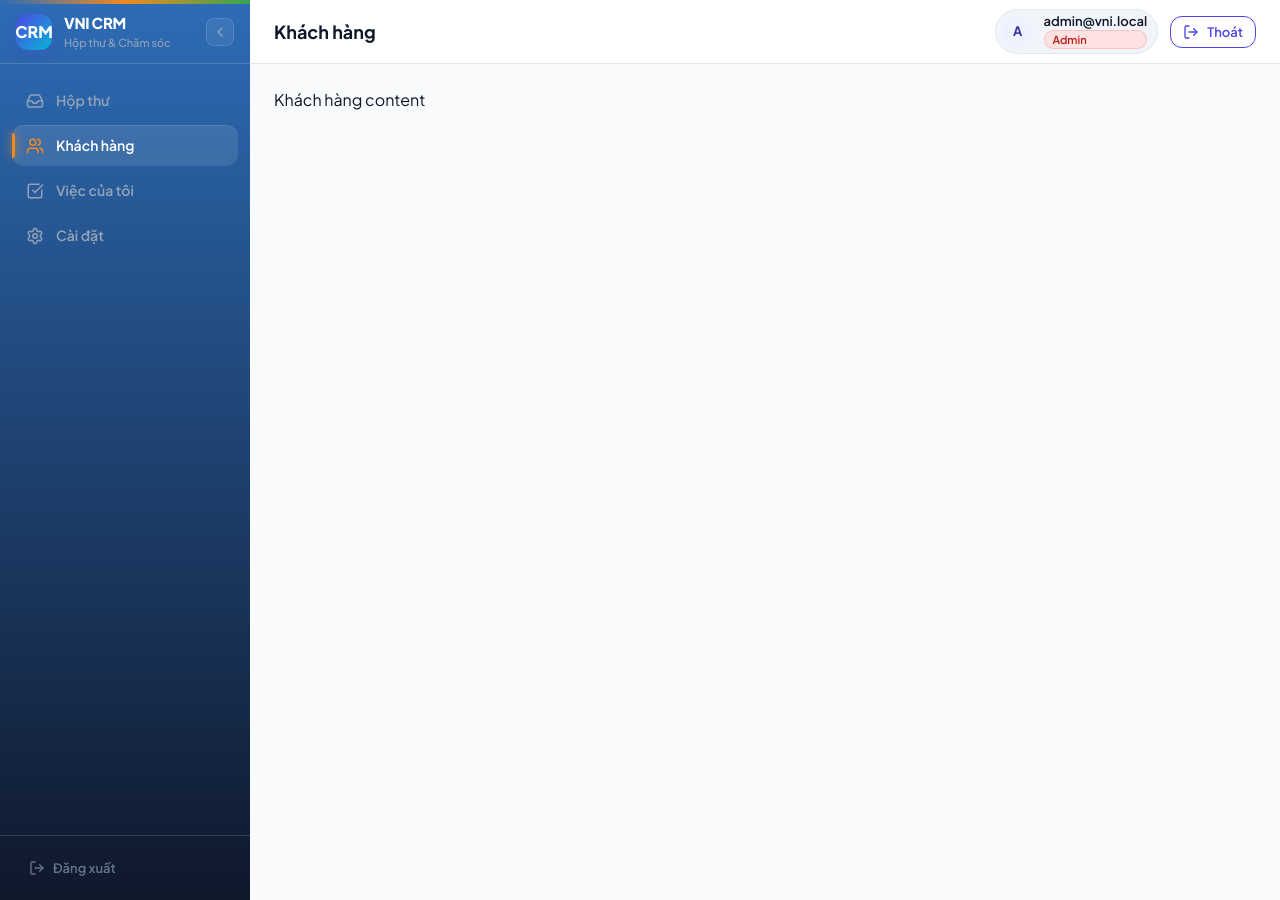
Test: AC 85ef074a — CrmApp: nav trái thu gọn/mở rộng (chỉ icon khi thu gọn) › AC 85ef074a (a) — Thao tác thu gọn/mở rộng sidebar › bấm nút thu gọn: sidebar có class collapsed, nhãn chữ ẩn, mỗi link có aria-label/title đúng tên mục; bấm lại mở ra
This screenshot has width=1280, height=900.
expect the text "Hộp thư" is shown: met, box [56,90,110,111]
expect the text "Khách hàng" is shown: met, box [56,135,134,156]
Note: Bấm nút thu gọn
What coordinates should you click on to do the following:
click the button with test id "sidebar-collapse-btn"
I would click on:
 (220, 32)
Its box is [206,18,234,46].
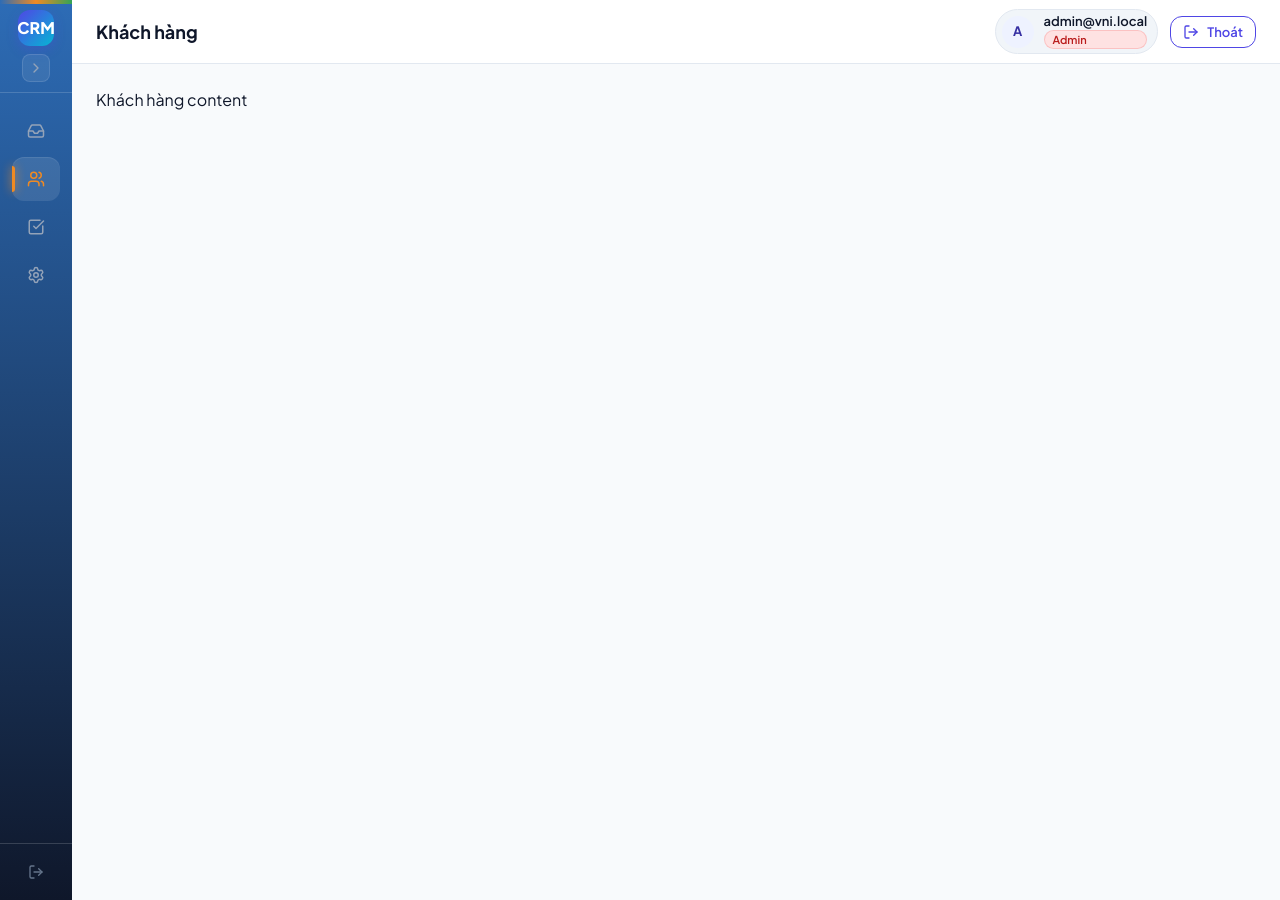
expect the button with test id "sidebar-collapse-btn" is collapsed: met
expect the text "Hộp thư" is gone: met
expect the link "Việc của tôi" is gone: met
Note: Bấm nút mở rộng lại
What coordinates should you click on to do the following:
click the button with test id "sidebar-collapse-btn"
I would click on:
 (36, 68)
Its box is [22,54,50,82].
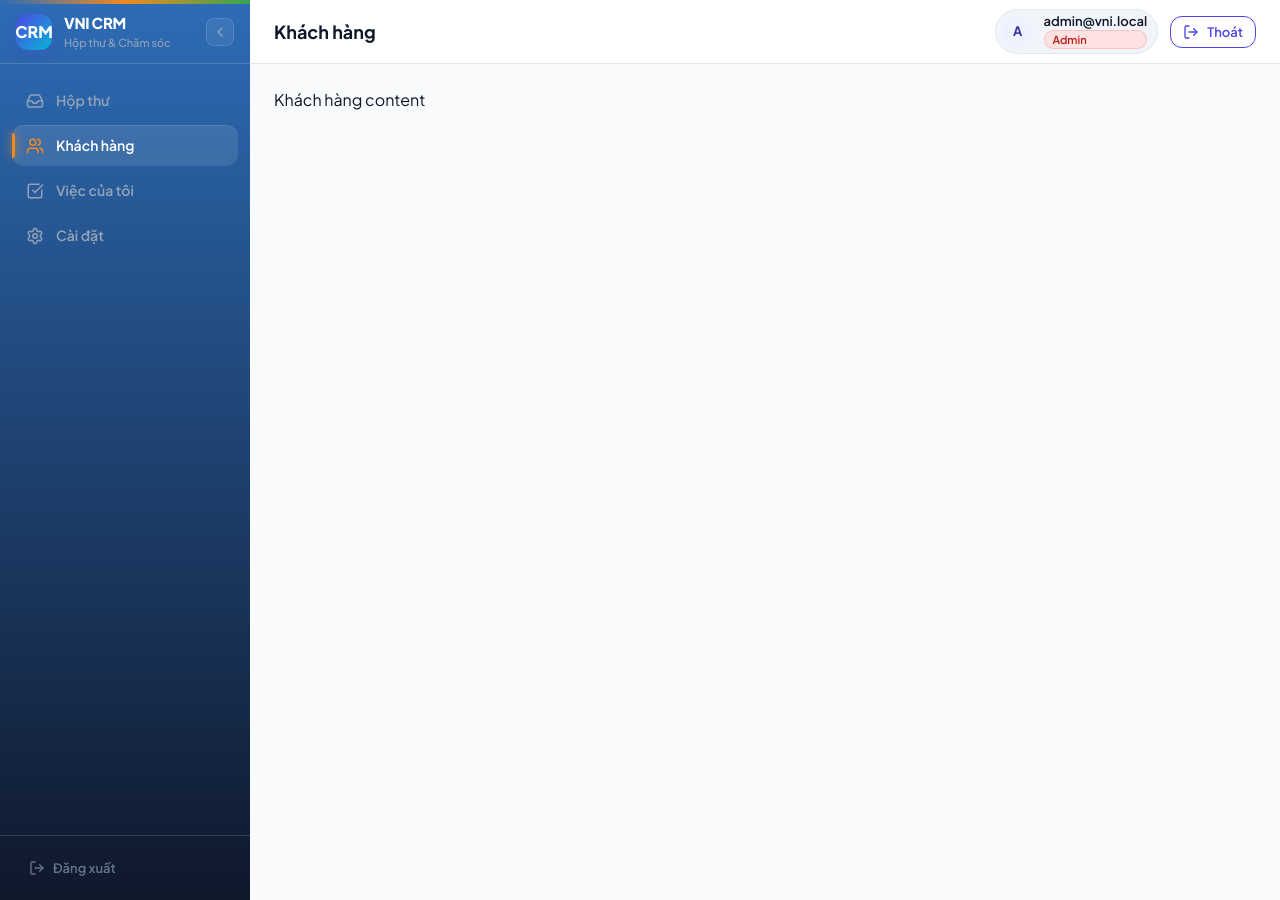
expect the button with test id "sidebar-collapse-btn" is expanded: met, box [206,18,234,46]
expect the text "Hộp thư" is shown: met, box [56,90,110,111]
expect the text "Khách hàng" is shown: met, box [56,135,134,156]
